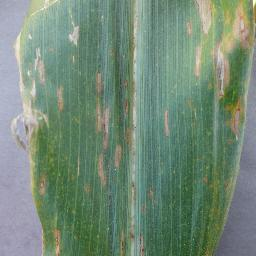Gray_Leaf_Spot: (185, 0, 256, 147), (121, 16, 149, 256), (86, 64, 111, 187), (9, 87, 51, 148), (200, 197, 229, 256), (25, 31, 51, 87), (24, 152, 48, 197), (66, 7, 84, 53), (48, 226, 67, 256), (161, 103, 174, 143), (222, 178, 243, 195), (58, 79, 65, 118), (203, 174, 217, 192), (114, 142, 122, 171), (74, 154, 81, 183), (40, 225, 46, 256), (71, 115, 81, 128), (147, 188, 154, 204), (33, 202, 44, 209)
